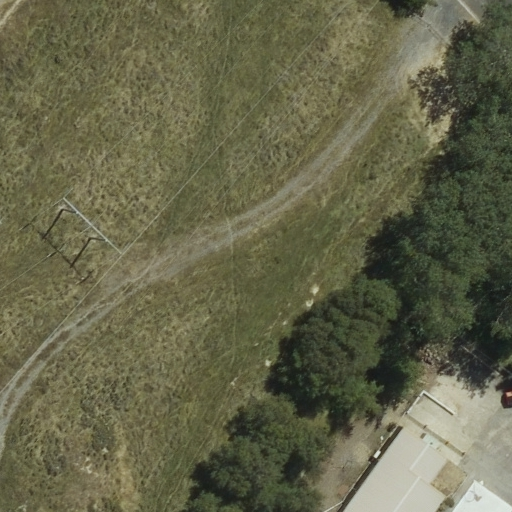DT: (44, 189, 124, 279)
